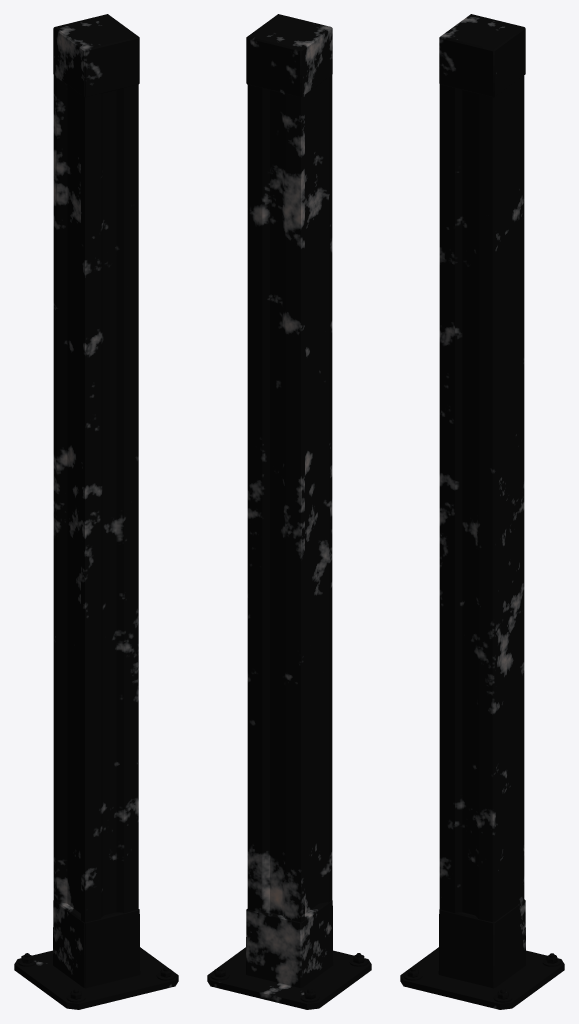
Rendered from Steel_Pillar.glb.
3 views of the same model, side by side, from view 1: azimuth 30°, elevation 25°; view 2: azimuth 150°, elevation 25°; view 3: azimuth 330°, elevation 25° (orthographic).
Parts seen in each view (by area): view 1: SteelPillar; view 2: SteelPillar; view 3: SteelPillar.
Part boxes in pixels (left/top/right/bottom): SteelPillar: left=14, top=14, right=178, bottom=1009; SteelPillar: left=207, top=14, right=371, bottom=1009; SteelPillar: left=400, top=14, right=564, bottom=1009.
Bounding box in the file's own units: 0.2479 × 2 × 0.2354.
Materials: 1 (1 with a texture image).
